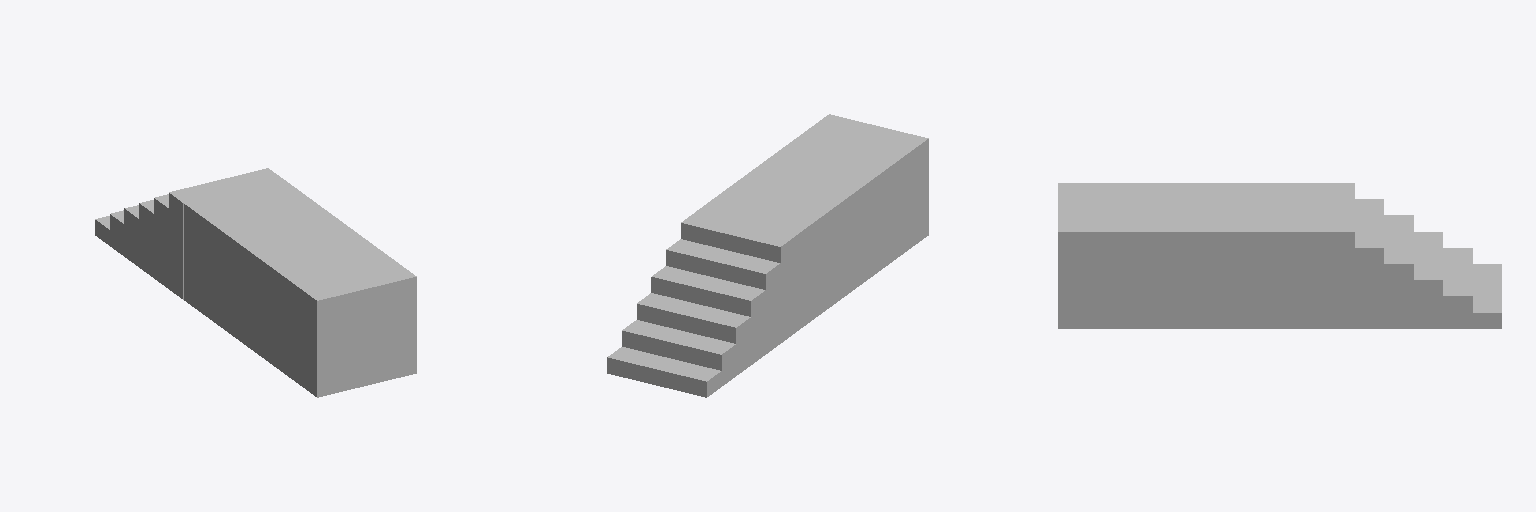
File: hall_stairs.obj
3 views of the same model, side by side, from view 1: azimuth 30°, elevation 25°; view 2: azimuth 150°, elevation 25°; view 3: azimuth 270°, elevation 25° (orthographic).
Parts seen in each view (by area): view 1: Stairs_Cube.012; view 2: Stairs_Cube.012; view 3: Stairs_Cube.012.
Part boxes in pixels (bbox=[...]): Stairs_Cube.012: bbox=[95, 168, 416, 397]; Stairs_Cube.012: bbox=[607, 114, 928, 397]; Stairs_Cube.012: bbox=[1058, 183, 1501, 328].
Size of the model in its own units: 11.11 by 10.3 by 42.79.